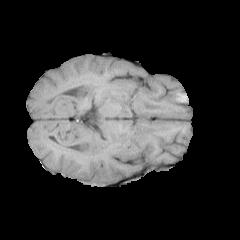glioma: (67, 129, 99, 159)
